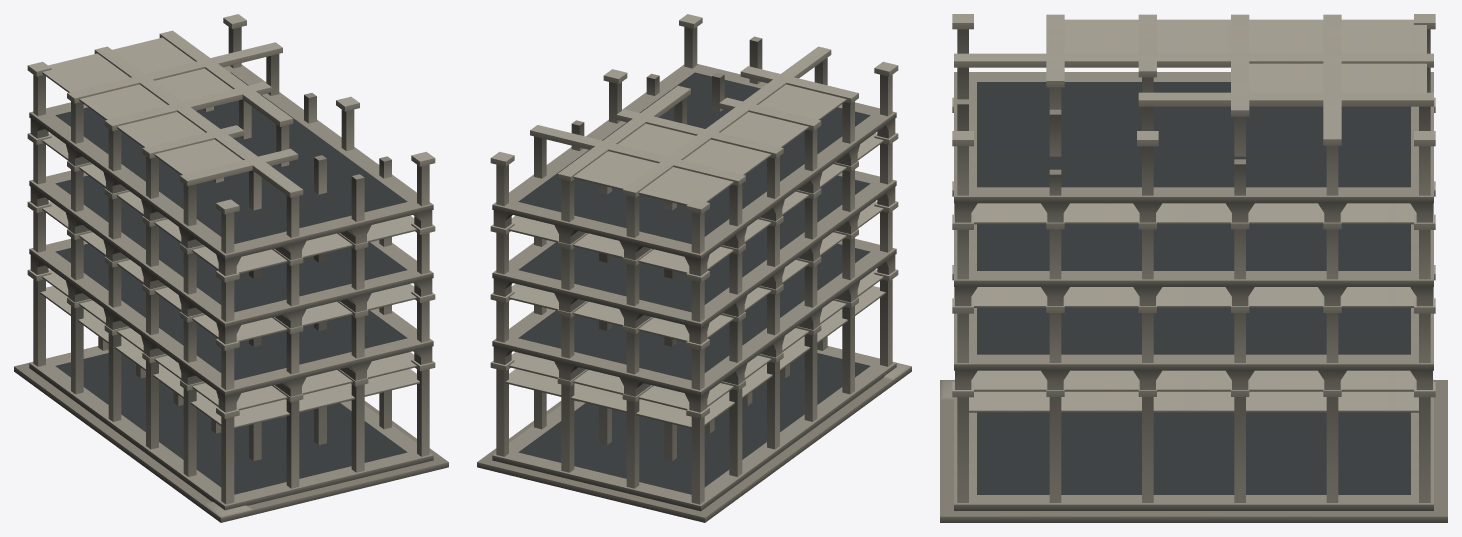
File: Building_Construction_1B.fbx
3 renders of one model, left to right at view 1: azimuth 30°, elevation 25°; view 2: azimuth 150°, elevation 25°; view 3: azimuth 270°, elevation 25°, orthographic. The views are drawn at different scales.
Parts seen in each view (by area): view 1: Building_Construction_1B; view 2: Building_Construction_1B; view 3: Building_Construction_1B.
Boxes of the visible parts, bbox=[...] form: Building_Construction_1B: bbox=[14, 14, 448, 522]; Building_Construction_1B: bbox=[477, 14, 911, 522]; Building_Construction_1B: bbox=[940, 14, 1447, 522].
Bounding box in the file's own units: 1400 × 1805 × 2200.
